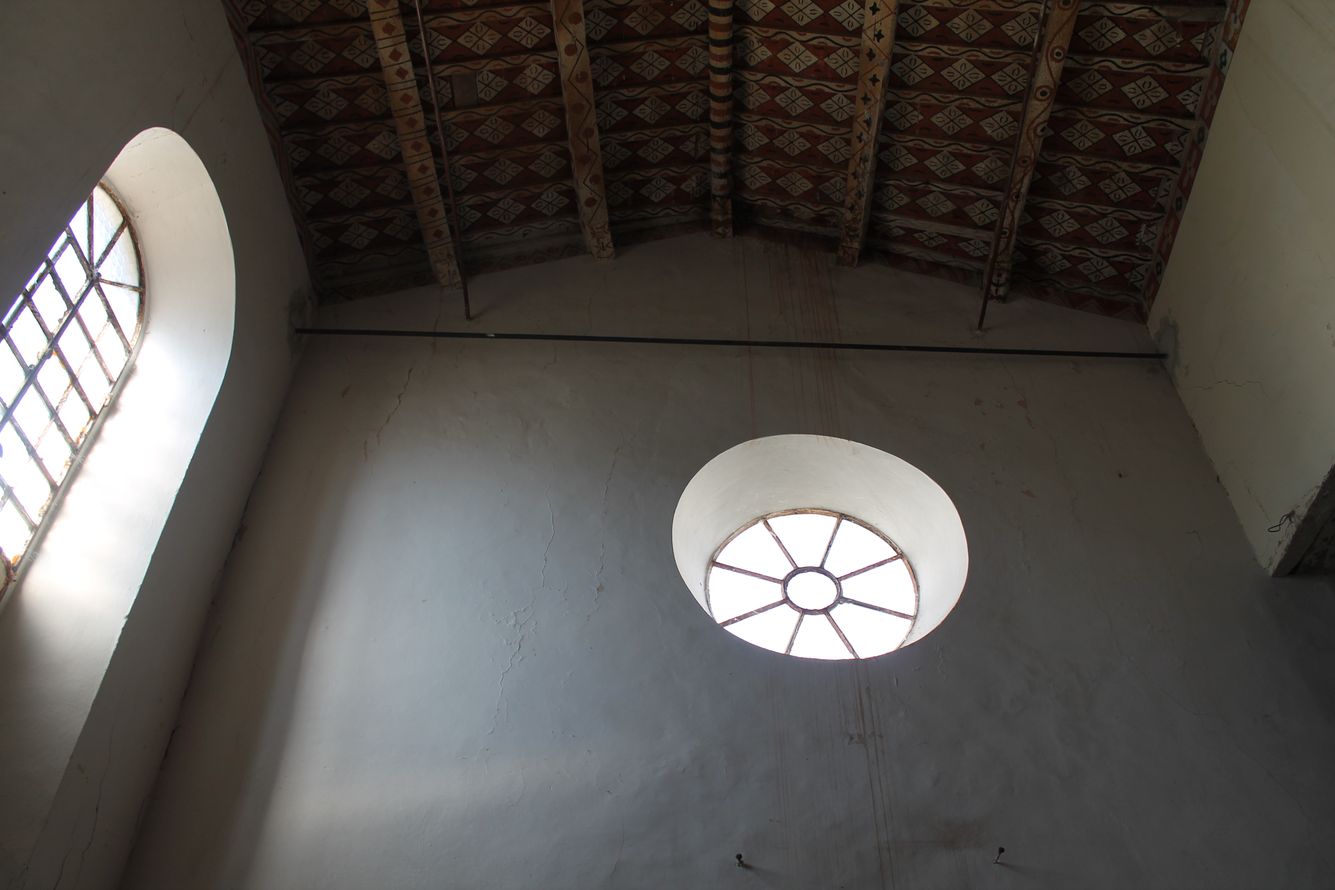Crack: (302, 292, 1178, 793), (51, 566, 170, 882)
